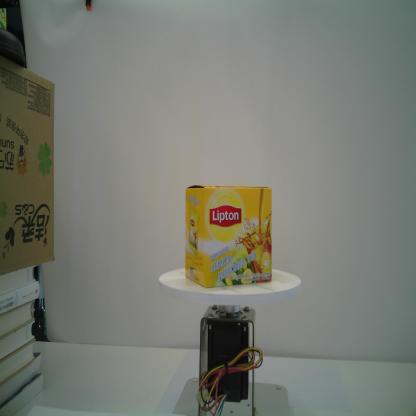Instant Drink: (184, 185, 272, 288)
